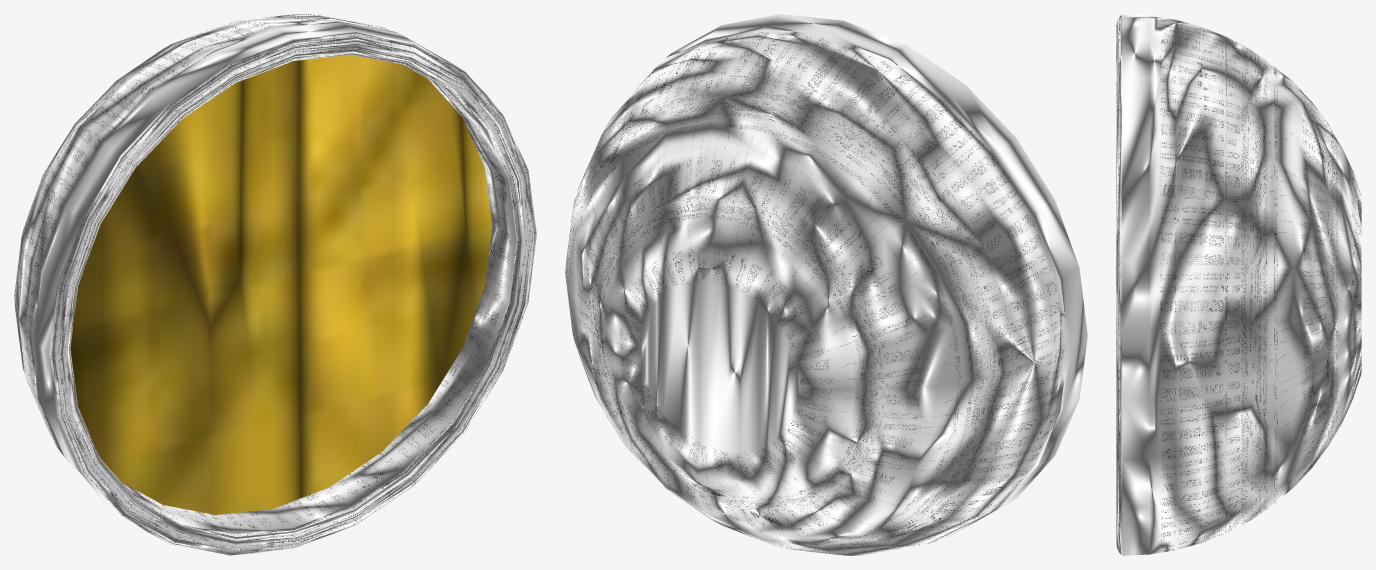
The model's file is model_align.obj.
The picture shows the model from 3 angles, left to right: view 1: azimuth 30°, elevation 25°; view 2: azimuth 150°, elevation 25°; view 3: azimuth 270°, elevation 25°; orthographic projection. The views are drawn at different scales.
Bounding box in the file's own units: 0.1597 × 0.1597 × 0.072.
